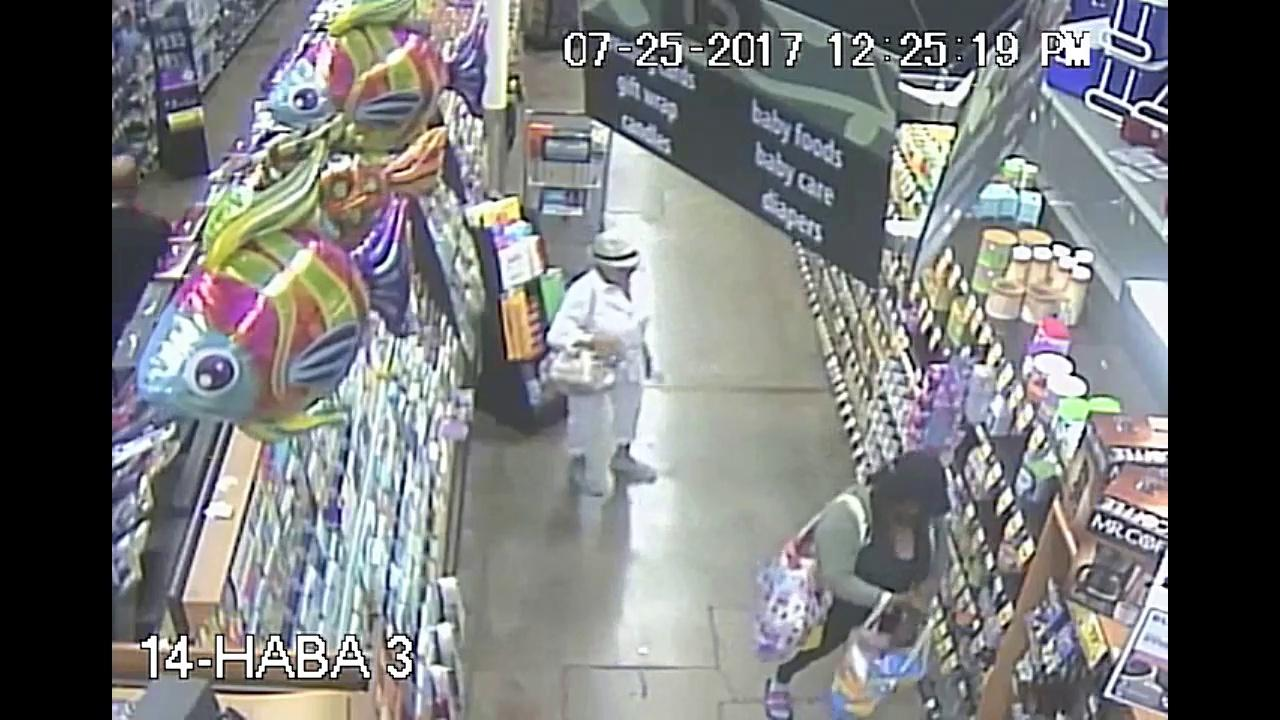3: (544, 183, 743, 508)
4: (750, 425, 1006, 720)
persone: (838, 581, 927, 710), (751, 540, 824, 672), (545, 340, 608, 404)
